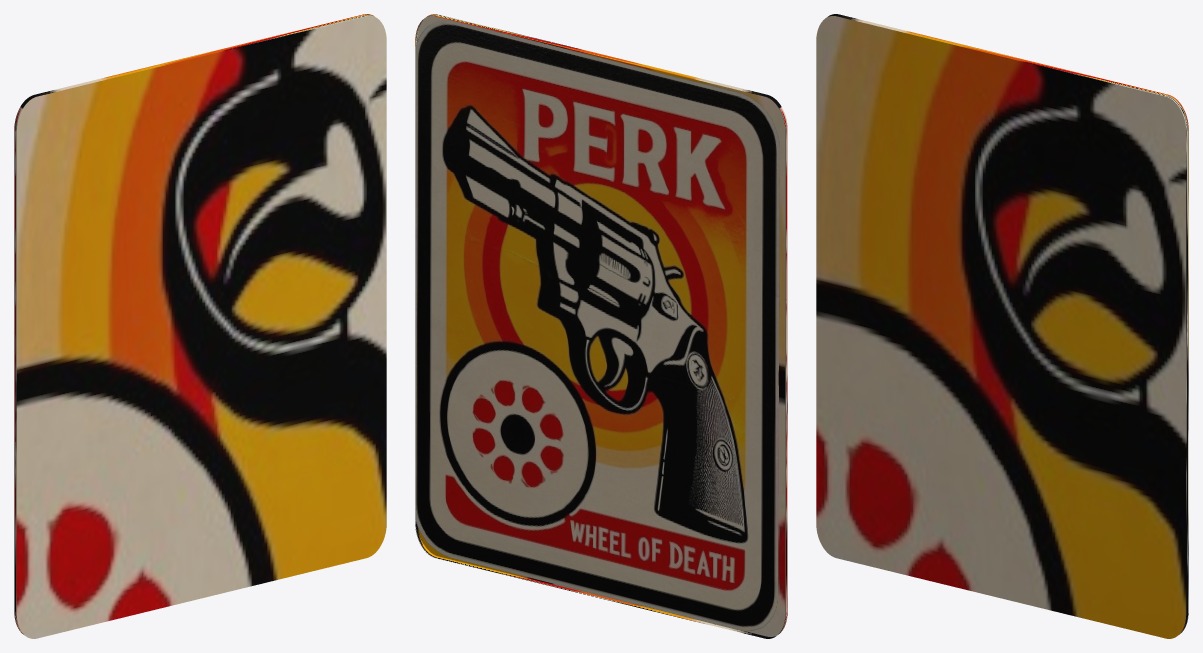
File: wheel of death.fbx
3 renders of one model, left to right at view 1: azimuth 30°, elevation 25°; view 2: azimuth 150°, elevation 25°; view 3: azimuth 330°, elevation 25°, orthographic.
Visible parts, largest first — view 1: Cube; view 2: Cube; view 3: Cube.
Boxes of the visible parts, x1,y1,x2,y2 form: Cube: (14, 14, 386, 638); Cube: (415, 14, 787, 638); Cube: (816, 14, 1188, 638).
Bounding box in the file's own units: 500 × 700 × 6.
Materials: 1 (1 with a texture image).
